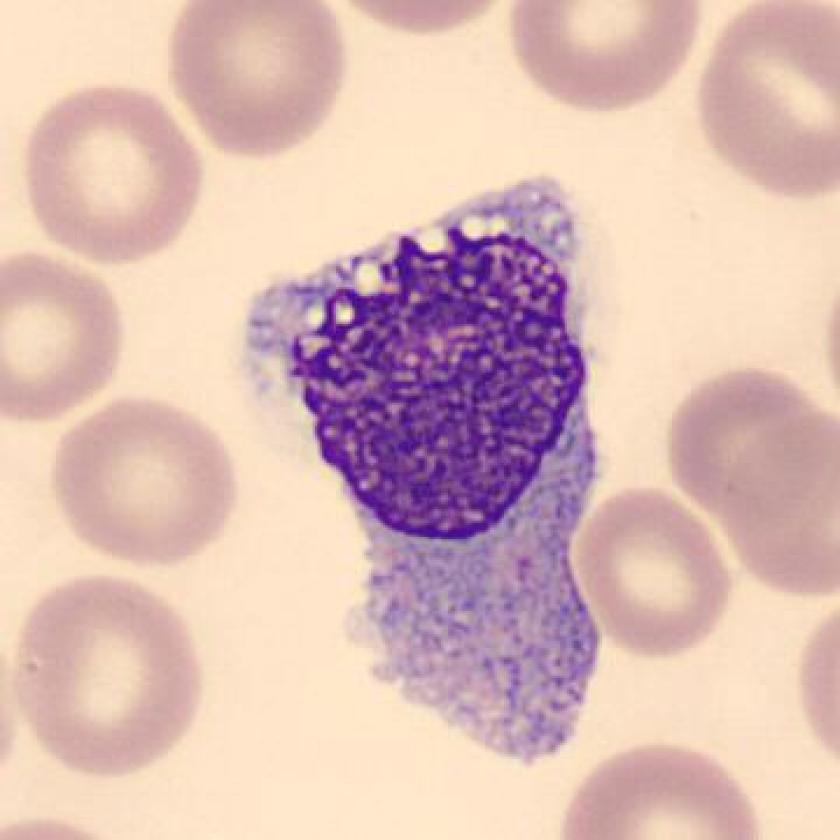monocyte: (220, 166, 636, 777)
